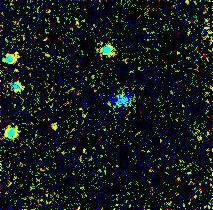star: (39, 113, 69, 143)
